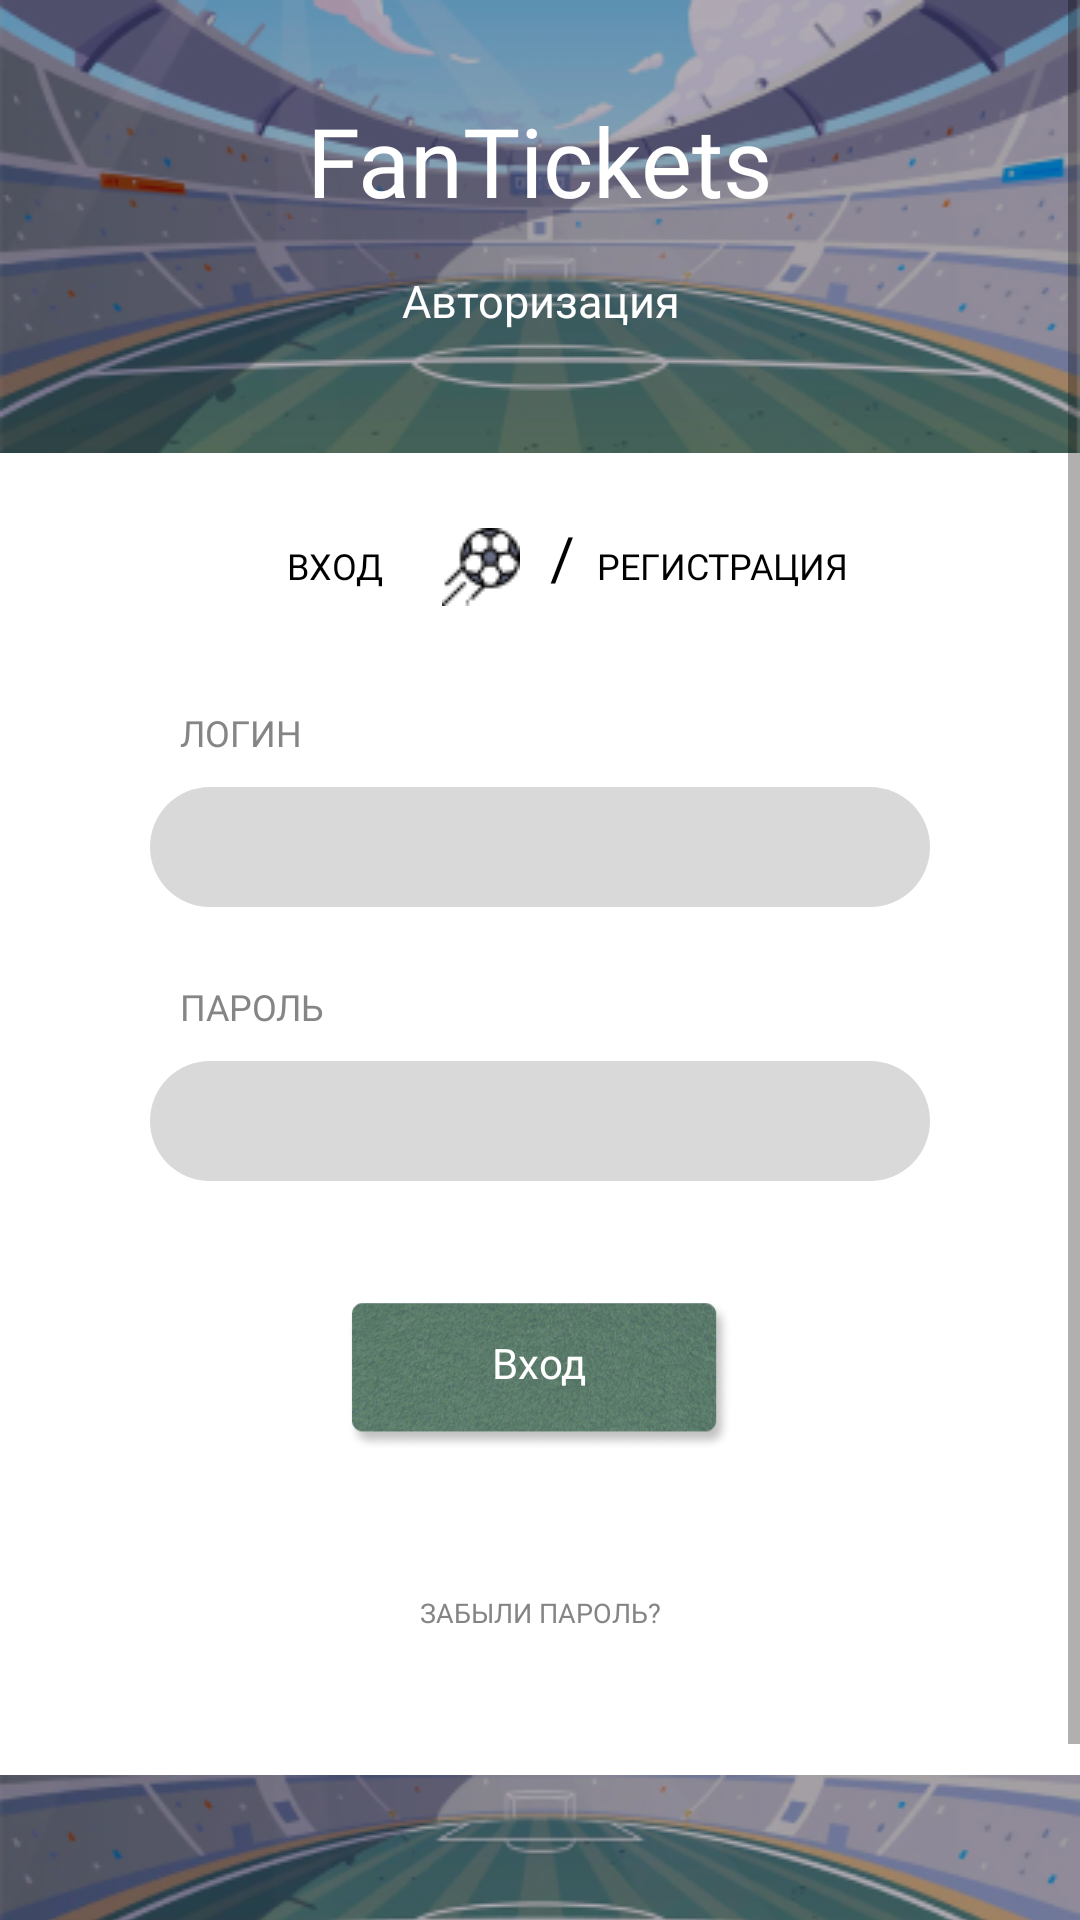

Where to tap for icons on this 1080*1920 app screen, as (x,y):
ball: (481,567)
